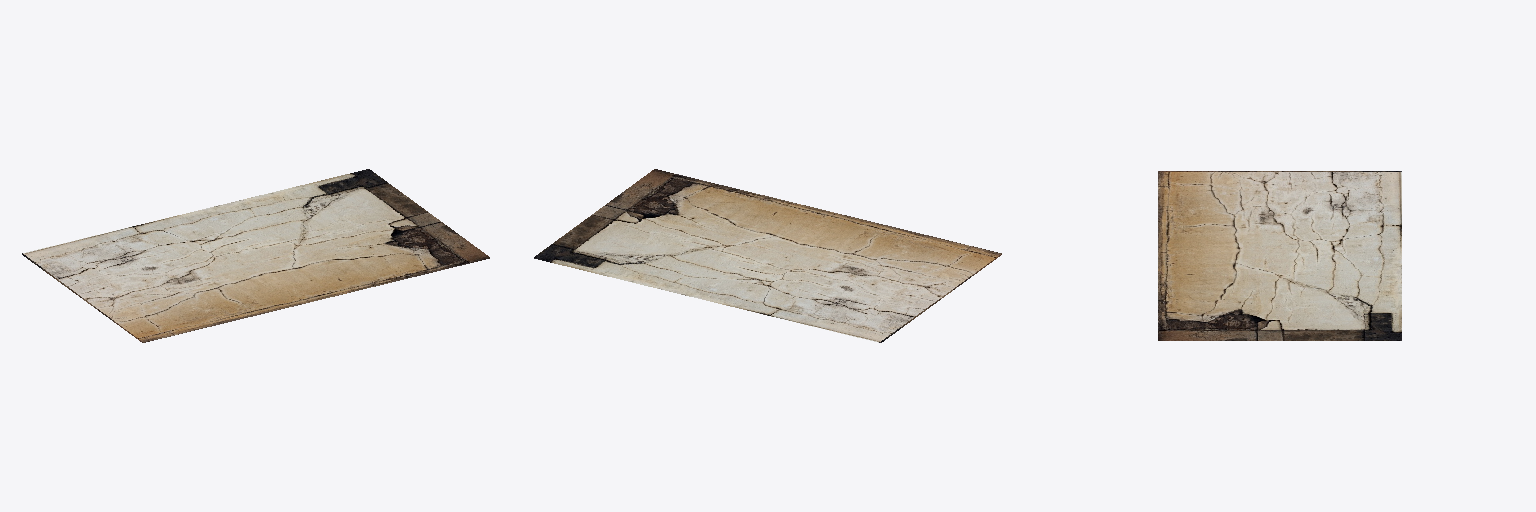
3 views of the same model, side by side, from view 1: azimuth 30°, elevation 25°; view 2: azimuth 150°, elevation 25°; view 3: azimuth 270°, elevation 25° (orthographic).
Visible parts, largest first — view 1: Mesh_ceilling; view 2: Mesh_ceilling; view 3: Mesh_ceilling.
Part boxes in pixels (x1,y1,x2,y2): Mesh_ceilling: (22,169,489,342); Mesh_ceilling: (534,169,1001,342); Mesh_ceilling: (1158,171,1401,340).
Bounding box in the file's own units: 10.85 × 0 × 6.59.
Materials: 1 (1 with a texture image).